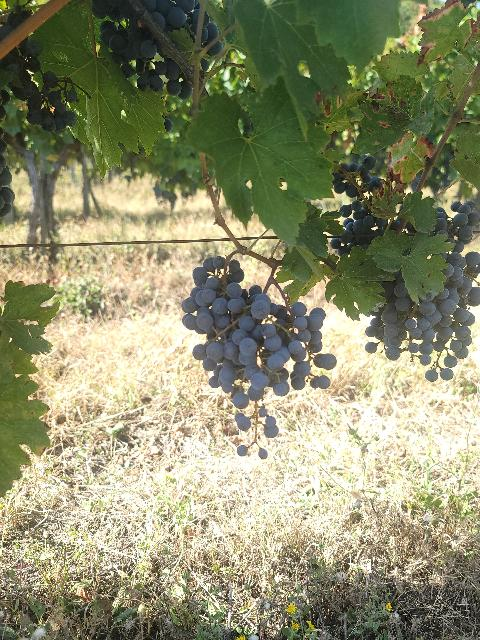grapes: (215, 292, 338, 445), (431, 251, 479, 380), (181, 256, 248, 332)
